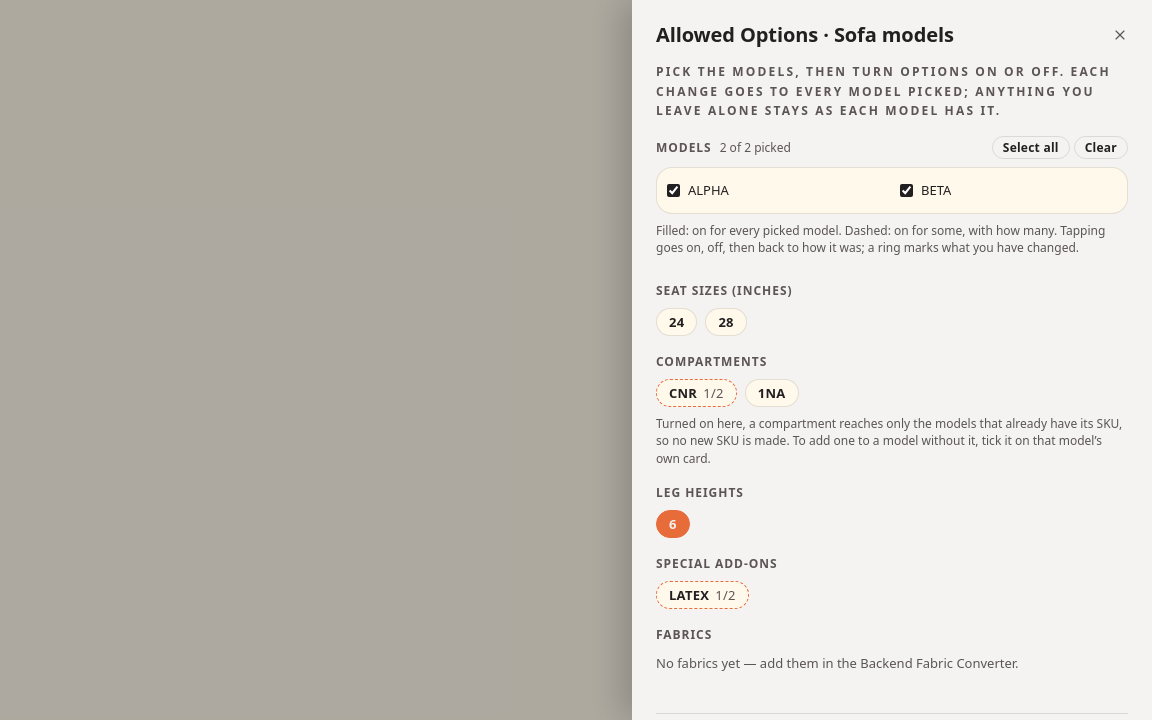
Test: Edit several models › never turns on a compartment a Model has no SKU for
Click the button "CNR1/2" at (696, 393), box x1=656 y1=379 x2=737 y2=407
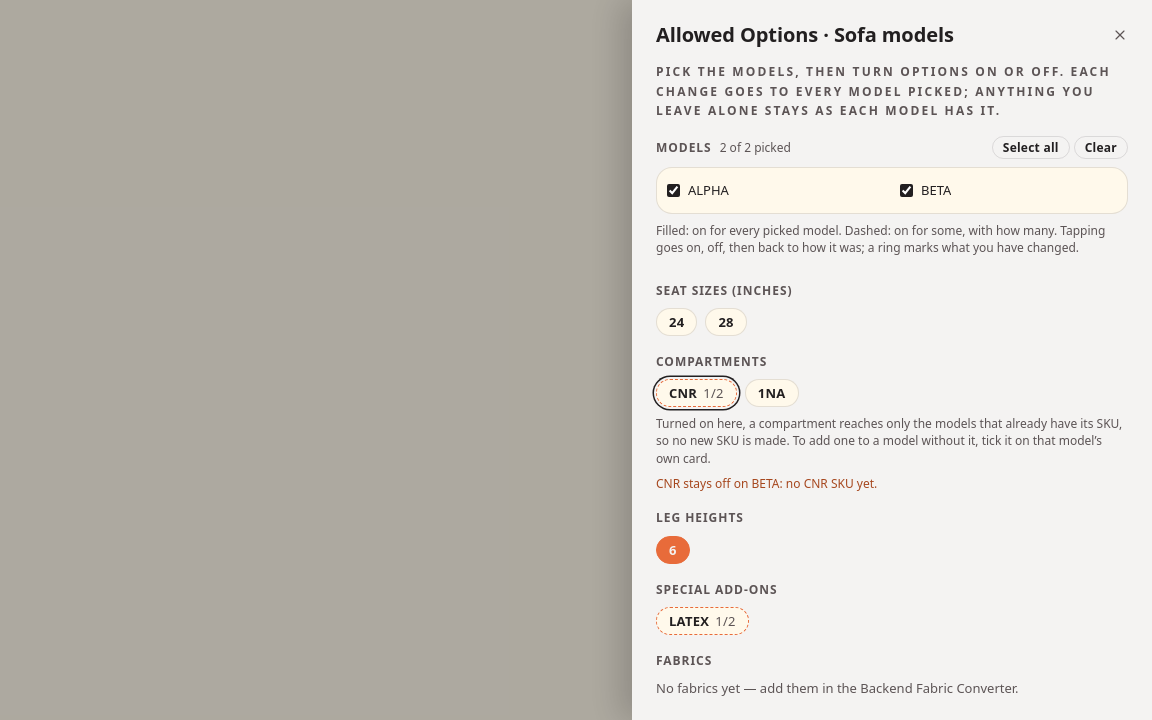
Result: the text "CNR stays off on BETA: no CNR SKU yet." is shown at x1=656 y1=475 x2=877 y2=492
Note: …but one it has a SKU for is turned on.
Click the button "1NA" at (772, 393), box x1=745 y1=379 x2=798 y2=407
(page scrolled)
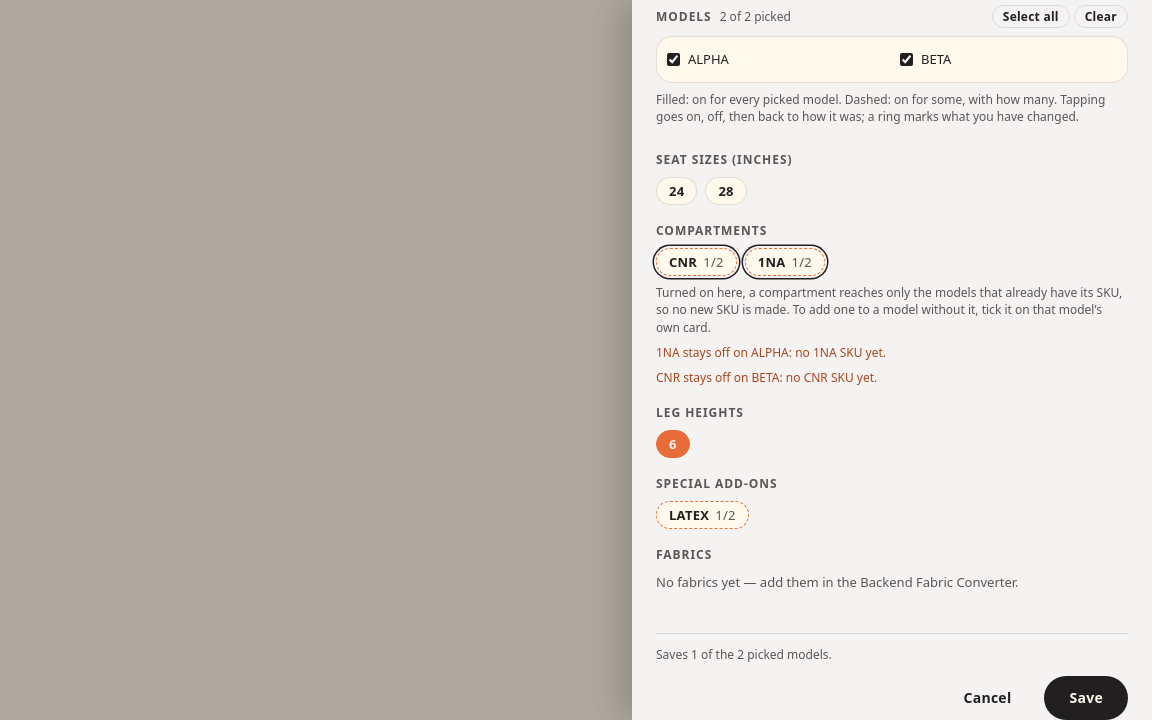
Click the button "Save" at (1086, 698), box x1=1044 y1=676 x2=1128 y2=719
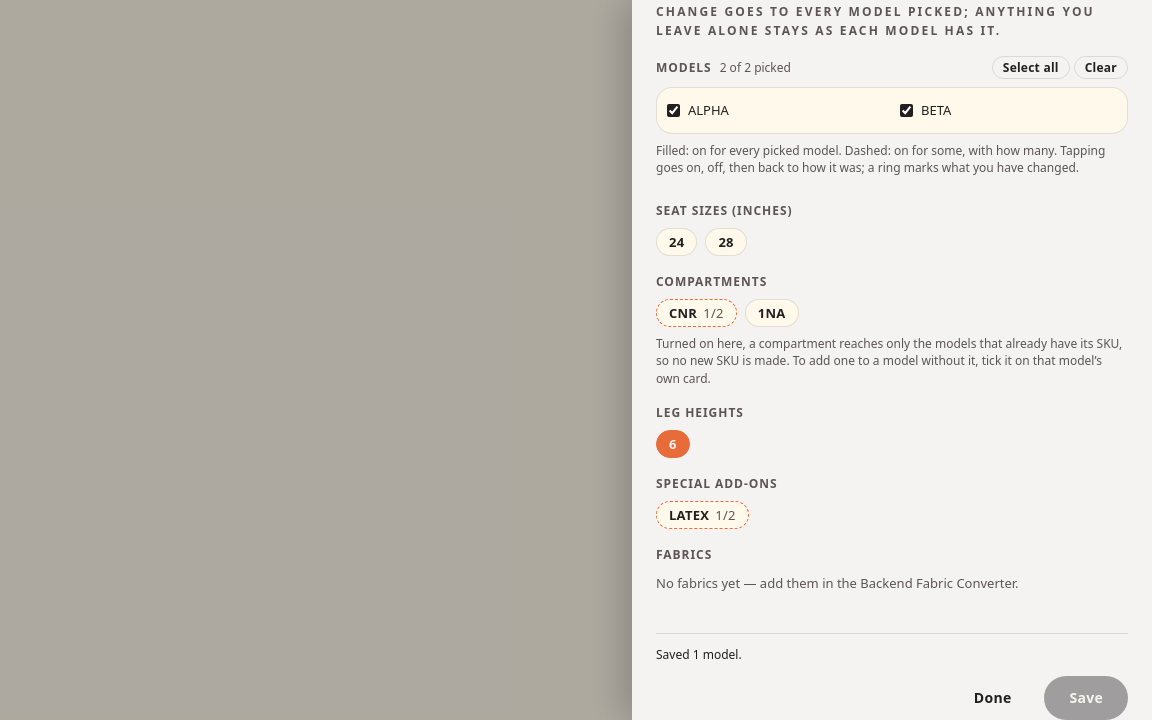
Result: the text "Saved 1 model." is shown at x1=656 y1=646 x2=742 y2=663
